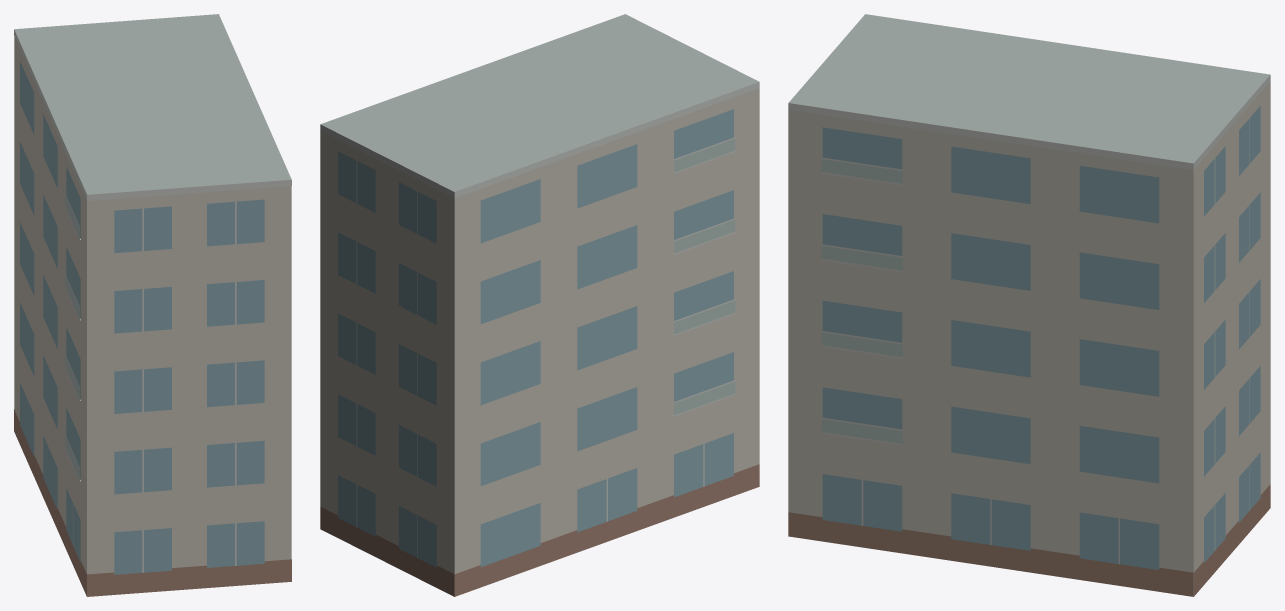
Rendered from survey-upis-33038806.glb.
The picture shows the model from 3 angles, left to right: view 1: azimuth 30°, elevation 25°; view 2: azimuth 150°, elevation 25°; view 3: azimuth 270°, elevation 25°; orthographic projection. The views are drawn at different scales.
Parts seen in each view (by area): view 1: survey-upis-33038806.tmp; view 2: survey-upis-33038806.tmp; view 3: survey-upis-33038806.tmp.
Part boxes in pixels (bbox=[...]): survey-upis-33038806.tmp: bbox=[14, 14, 291, 596]; survey-upis-33038806.tmp: bbox=[320, 14, 759, 596]; survey-upis-33038806.tmp: bbox=[788, 14, 1270, 596].
Bounding box in the file's own units: 11.69 × 15.8 × 15.94.
